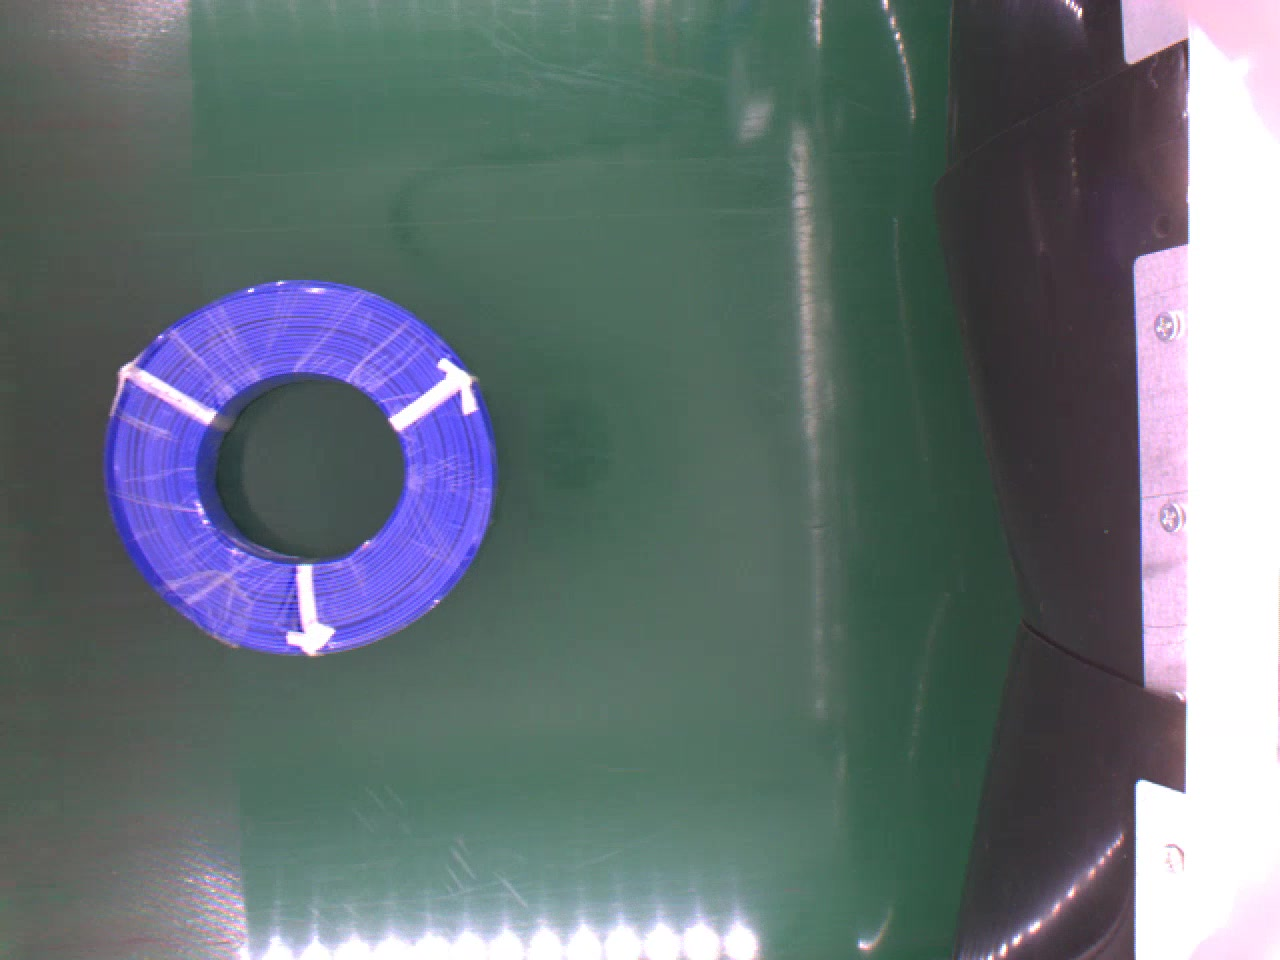blue: (103, 277, 502, 666)
